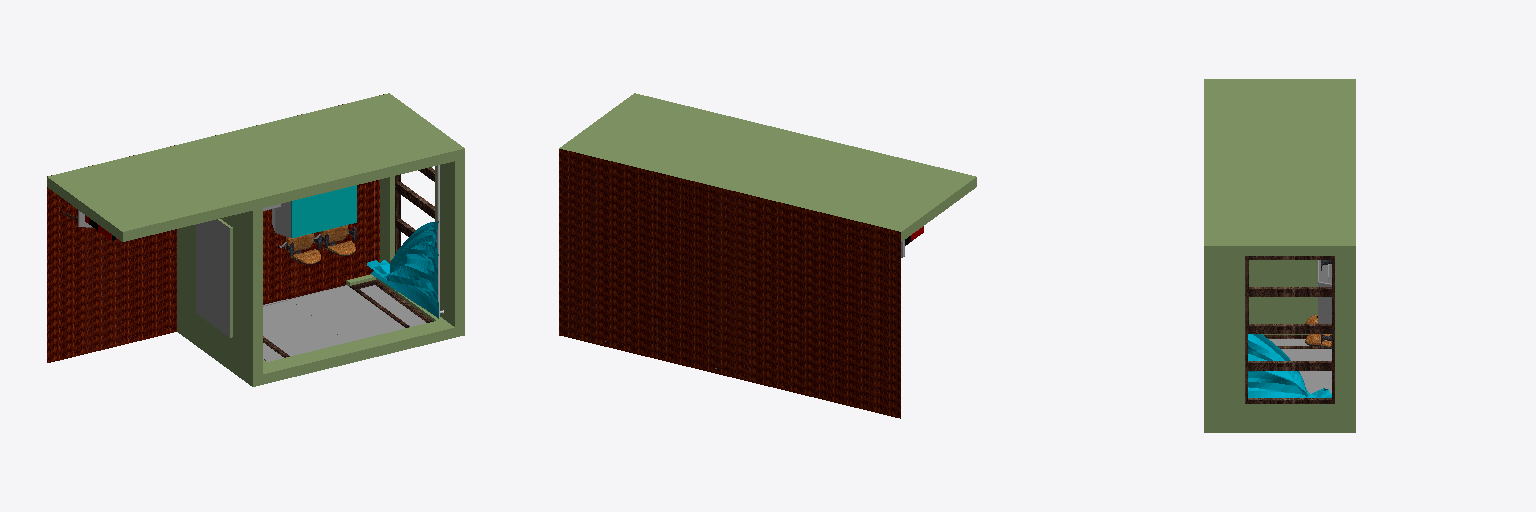
3 renders of one model, left to right at view 1: azimuth 30°, elevation 25°; view 2: azimuth 150°, elevation 25°; view 3: azimuth 270°, elevation 25°, orthographic.
Visible parts, largest first — view 1: Cube.031_Cube.044, Plane.009_Plane.014, Plane_Plane.002, Cube.000_Cube.032, Cube.049_Cube.035, Cube.048_Cube.050, Plane.010_Plane.004, Cube.047_Cube.029, Cube_Cube.000; view 2: Plane.009_Plane.014, Cube.031_Cube.044; view 3: Cube.031_Cube.044, Plane_Plane.002, Cube.043_Cube.048, Cube.041_Cube.046, Cube.044_Cube.049, Cube.042_Cube.047, Cube.048_Cube.050, Cube_Cube.000, Cube.046_Cube.028.
Part boxes in pixels (bbox=[...]): Cube.031_Cube.044: bbox=[47, 93, 464, 386]; Plane.009_Plane.014: bbox=[47, 94, 383, 362]; Plane_Plane.002: bbox=[367, 221, 438, 318]; Cube.000_Cube.032: bbox=[196, 219, 229, 337]; Cube.049_Cube.035: bbox=[290, 285, 404, 341]; Cube.048_Cube.050: bbox=[263, 299, 347, 355]; Plane.010_Plane.004: bbox=[291, 185, 356, 237]; Cube.047_Cube.029: bbox=[350, 280, 433, 327]; Cube_Cube.000: bbox=[272, 201, 290, 237]; Plane.009_Plane.014: bbox=[559, 149, 900, 418]; Cube.031_Cube.044: bbox=[559, 93, 976, 241]; Cube.031_Cube.044: bbox=[1204, 79, 1355, 432]; Plane_Plane.002: bbox=[1248, 334, 1331, 397]; Cube.043_Cube.048: bbox=[1245, 256, 1334, 292]; Cube.041_Cube.046: bbox=[1245, 293, 1334, 329]; Cube.044_Cube.049: bbox=[1245, 367, 1334, 403]; Cube.042_Cube.047: bbox=[1245, 330, 1334, 366]; Cube.048_Cube.050: bbox=[1281, 349, 1331, 376]; Cube_Cube.000: bbox=[1318, 260, 1331, 323]; Cube.046_Cube.028: bbox=[1264, 335, 1331, 348].
Bounding box in the file's own units: 25.1 × 13.09 × 9.6.
Materials: 31 (4 with a texture image).